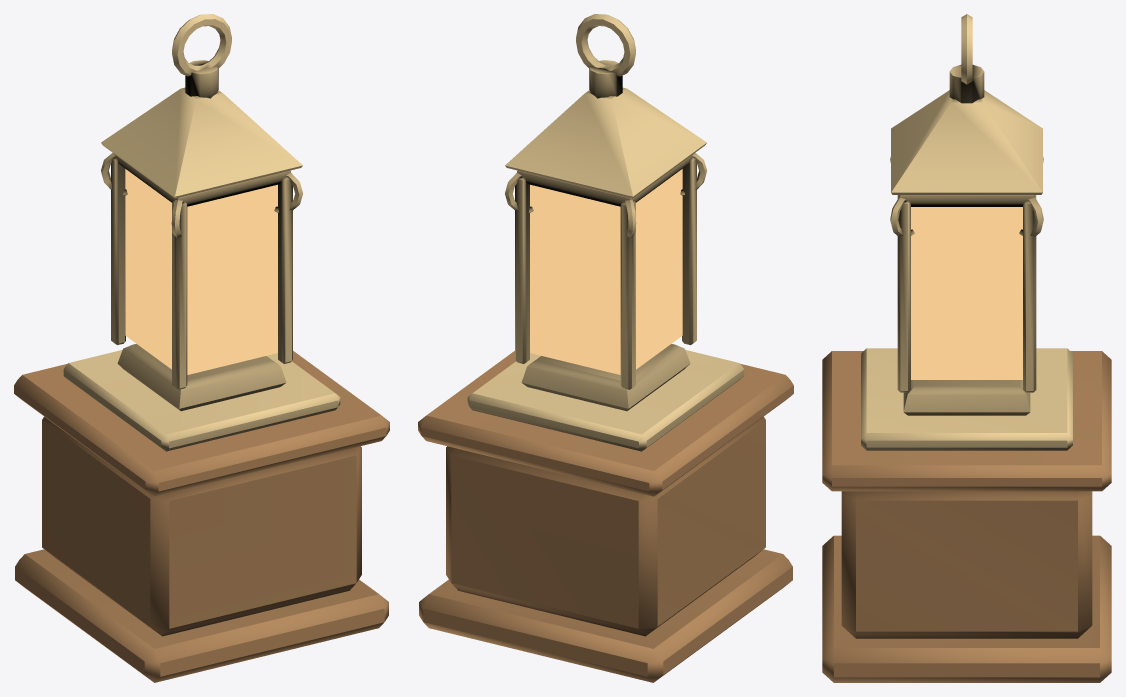
File: lantern.glb
3 renders of one model, left to right at view 1: azimuth 30°, elevation 25°; view 2: azimuth 150°, elevation 25°; view 3: azimuth 270°, elevation 25°, orthographic. The views are drawn at different scales.
Visible parts, largest first — view 1: LanternMesh; view 2: LanternMesh; view 3: LanternMesh.
Boxes of the visible parts, x1=… form: LanternMesh: x1=14, y1=14, x2=389, y2=682; LanternMesh: x1=418, y1=14, x2=793, y2=682; LanternMesh: x1=822, y1=14, x2=1111, y2=682.
Bounding box in the file's own units: 30 × 69.7 × 30.
